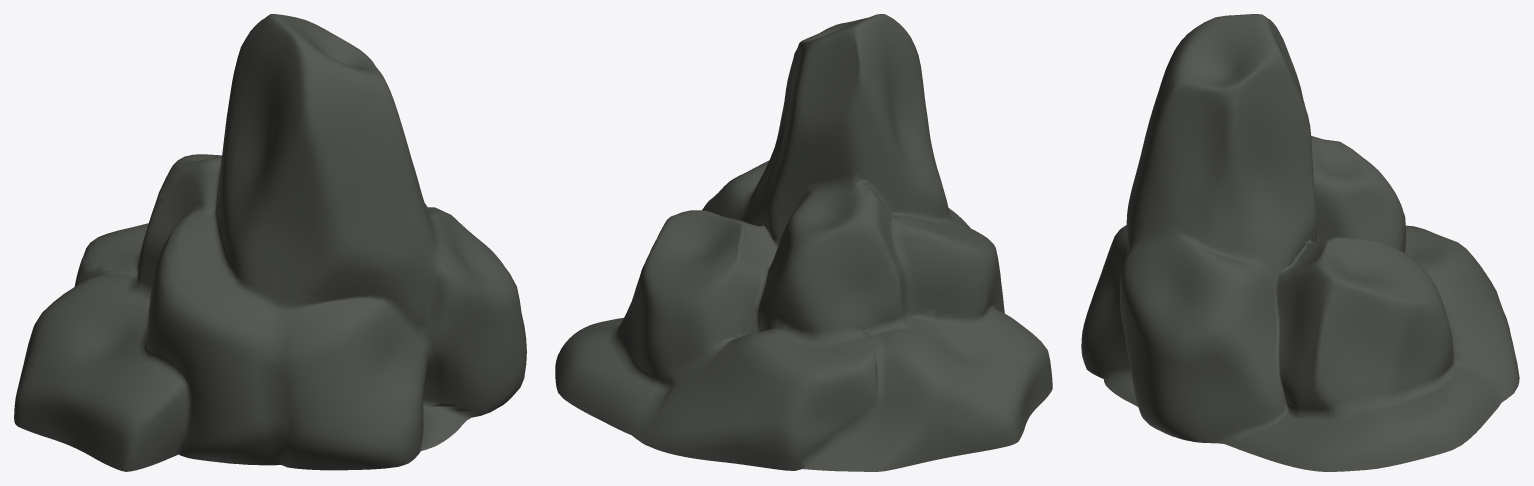
The model's file is cart.glb.
3 renders of one model, left to right at view 1: azimuth 30°, elevation 25°; view 2: azimuth 150°, elevation 25°; view 3: azimuth 270°, elevation 25°, orthographic. The views are drawn at different scales.
Visible parts, largest first — view 1: Environment_Cliff3; view 2: Environment_Cliff3; view 3: Environment_Cliff3.
Boxes of the visible parts, x1,y1,x2,y2 form: Environment_Cliff3: [14, 14, 526, 471]; Environment_Cliff3: [555, 14, 1052, 471]; Environment_Cliff3: [1081, 14, 1519, 471].
Bounding box in the file's own units: 6.6 × 4.93 × 5.78.
1 material, 1 textured.
